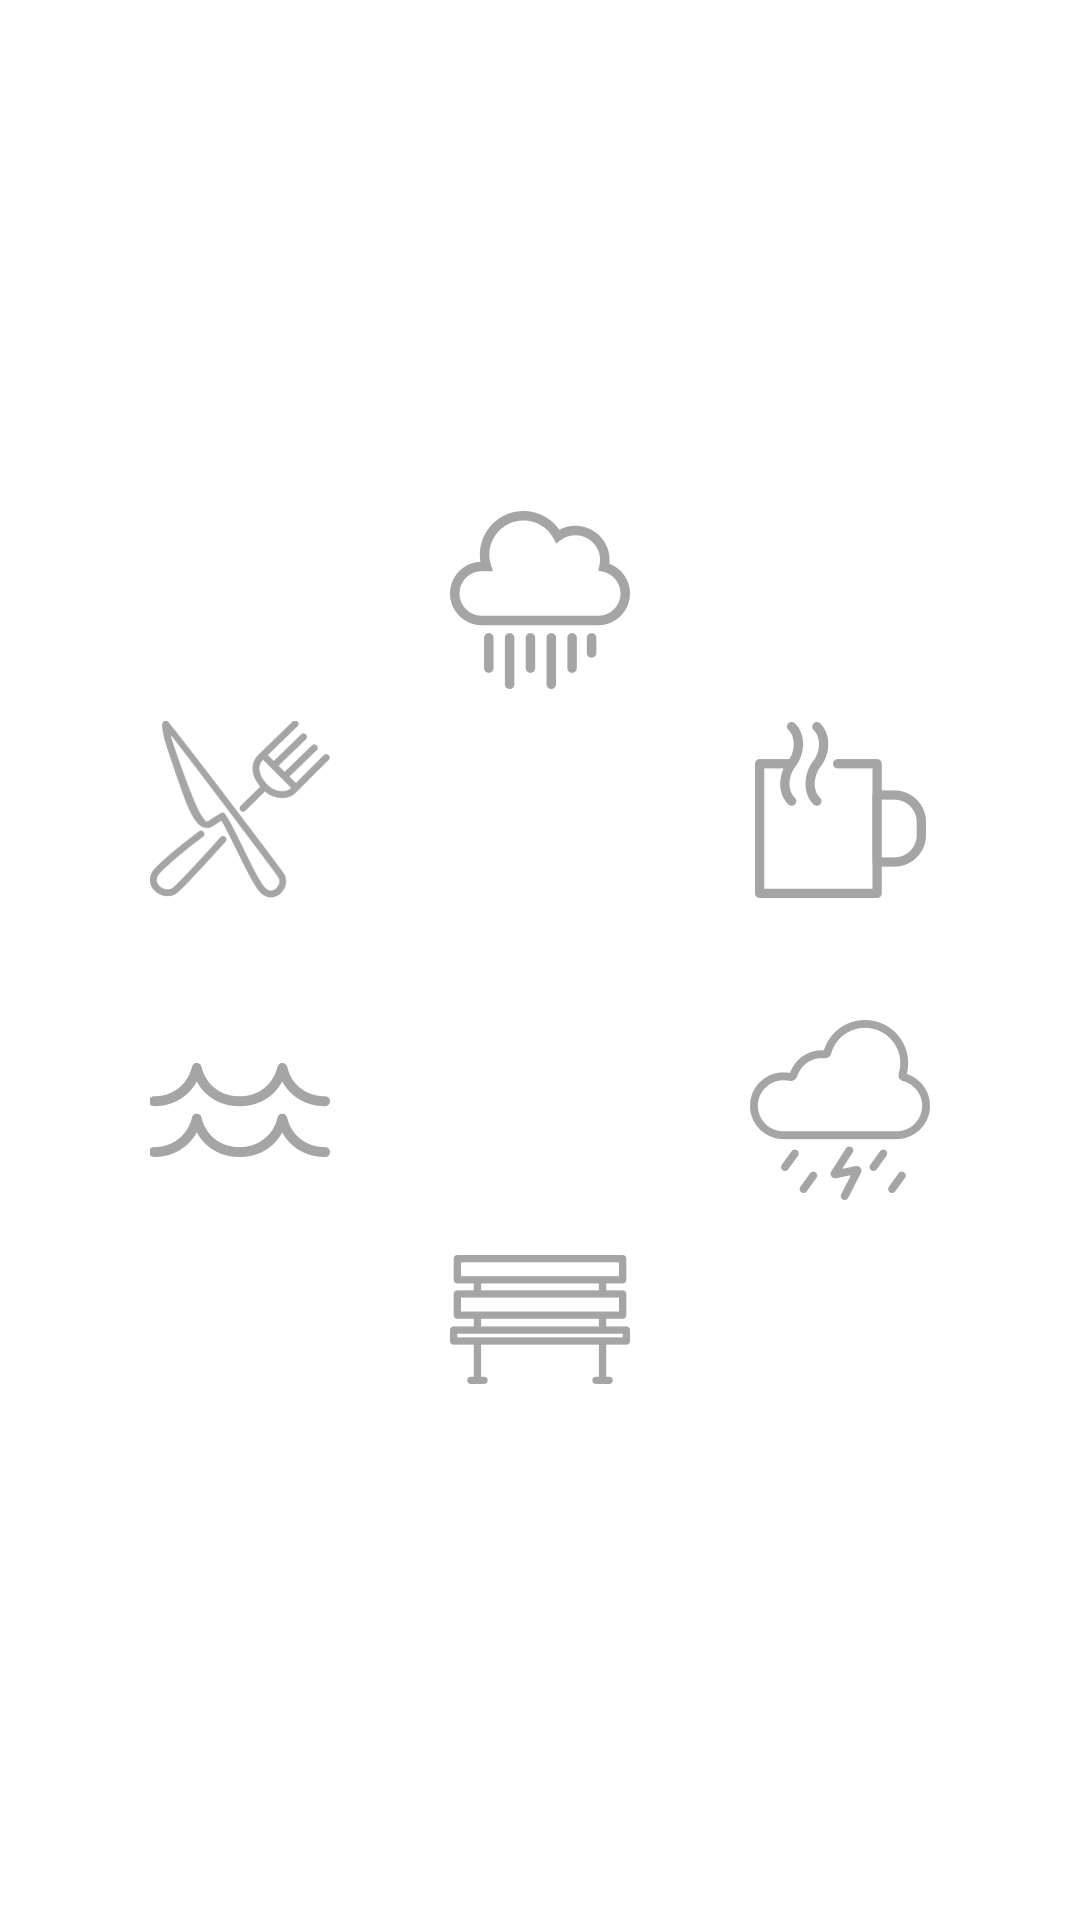

Where icons sit on this 1080x1920 app screen, as (x1, y1, x2, y2):
ambient cafe: (755, 722, 926, 898)
ambient diner: (150, 721, 330, 898)
ambient park: (450, 1255, 630, 1384)
ambient rain: (450, 511, 630, 689)
ambient storm: (750, 1020, 930, 1200)
ambient waves: (150, 1063, 330, 1157)
